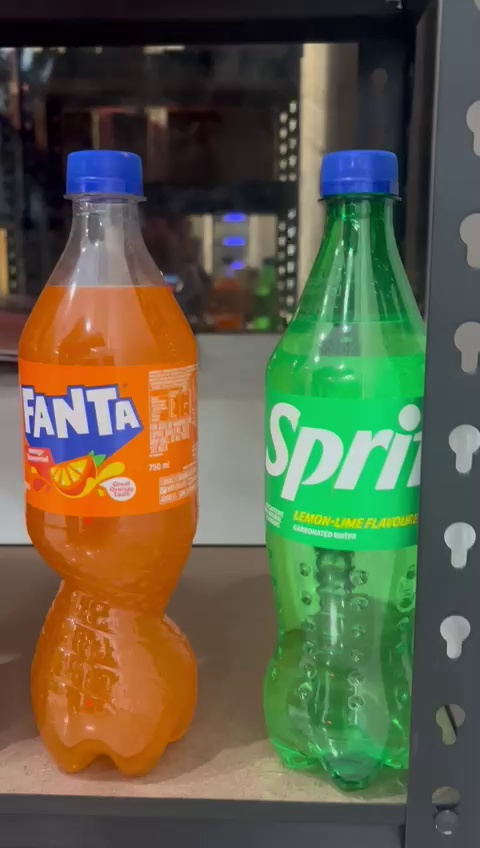Fanta: (10, 144, 200, 778)
Sprit: (254, 144, 435, 801)
